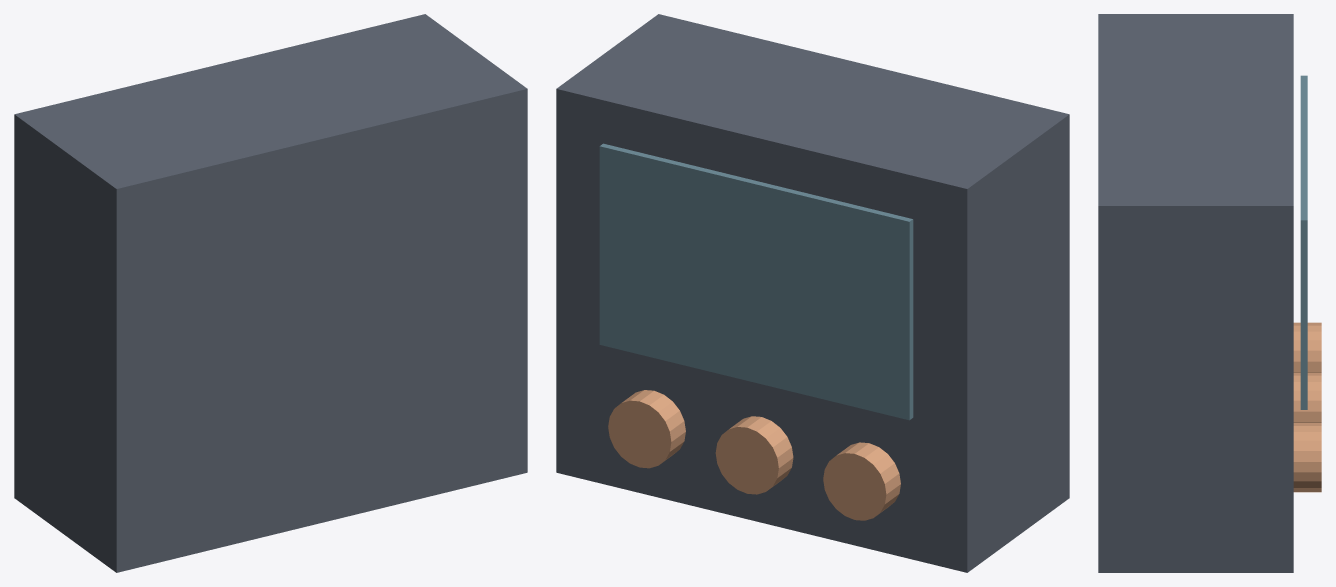
Rendered from wafer-digital-indicator-2.glb.
3 views of the same model, side by side, from view 1: azimuth 30°, elevation 25°; view 2: azimuth 150°, elevation 25°; view 3: azimuth 270°, elevation 25° (orthographic). The views are drawn at different scales.
Visible parts, largest first — view 1: black readout case; view 2: black readout case, screen panel, copper orange key (×3); view 3: black readout case, copper orange key (×3), screen panel.
Part boxes in pixels (x1,y1,x2,y2): black readout case: (14,14,527,572); black readout case: (556,14,1069,572); screen panel: (599,143,913,420); copper orange key (×3): (608,390,900,520); black readout case: (1098,14,1293,572); copper orange key (×3): (1293,322,1321,492); screen panel: (1300,75,1307,409).
Size of the model in its own units: 0.065 by 0.058 by 0.032.
